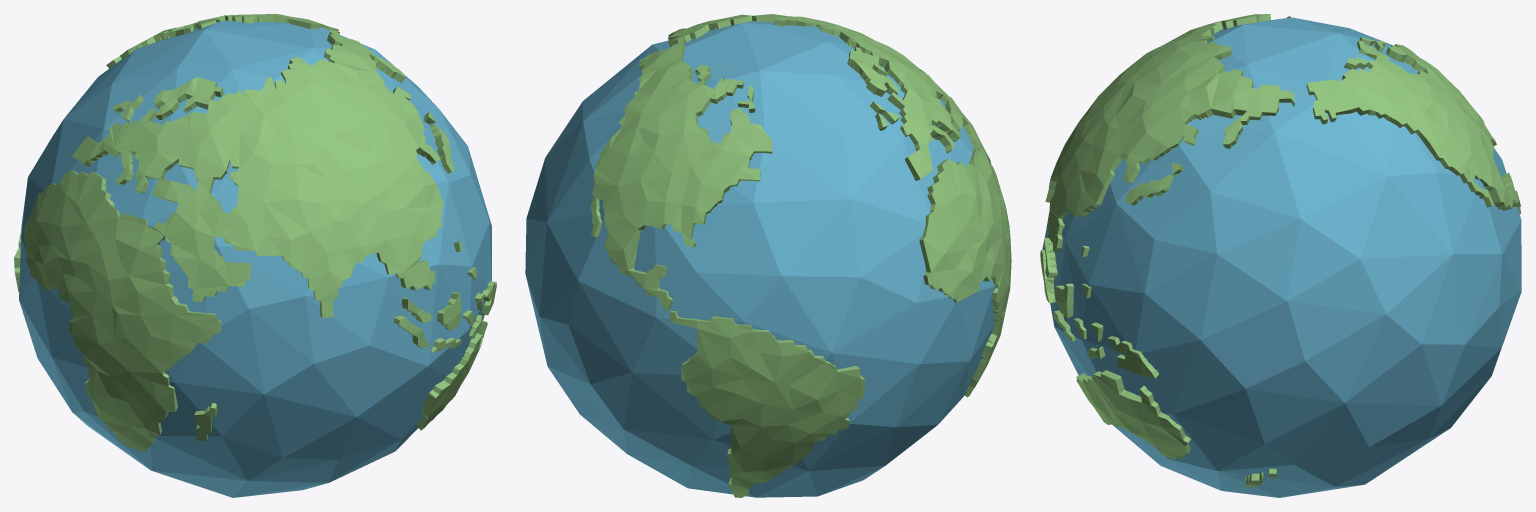
File: earth.fbx
3 views of the same model, side by side, from view 1: azimuth 30°, elevation 25°; view 2: azimuth 150°, elevation 25°; view 3: azimuth 270°, elevation 25° (orthographic).
Visible parts, largest first — view 1: Land_, Oceans; view 2: Oceans, Land_; view 3: Oceans, Land_.
Part boxes in pixels (<box>): Land_: <box>14,14,496,452</box>; Oceans: <box>19,20,491,497</box>; Oceans: <box>525,21,995,497</box>; Land_: <box>590,14,1011,497</box>; Oceans: <box>1042,17,1521,497</box>; Land_: <box>1040,14,1520,487</box>.
Bounding box in the file's own units: 3.25 × 3.22 × 3.24.
